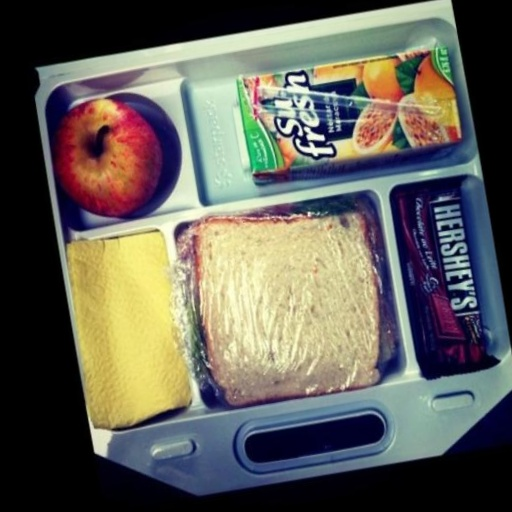fruit: (52, 99, 162, 217), (398, 93, 449, 147), (353, 104, 396, 155), (414, 56, 455, 100), (363, 58, 403, 102), (313, 64, 363, 84), (277, 137, 298, 167)
